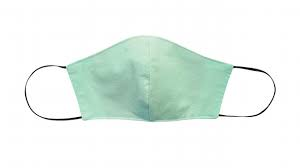mask: (15, 29, 285, 145)
